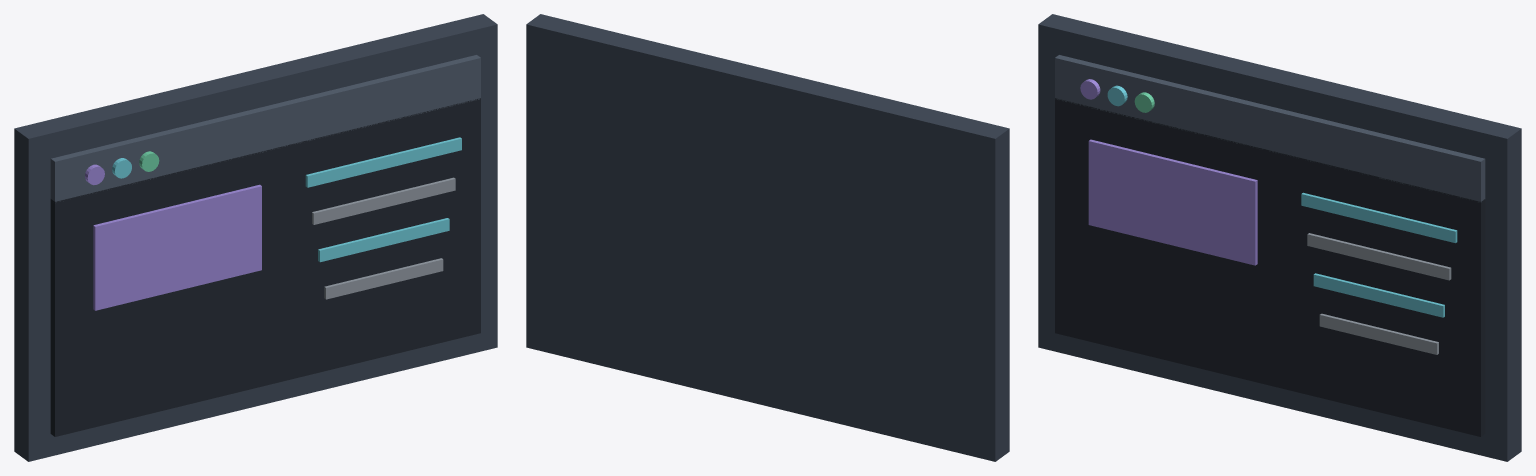
File: browser.glb
3 views of the same model, side by side, from view 1: azimuth 30°, elevation 25°; view 2: azimuth 150°, elevation 25°; view 3: azimuth 330°, elevation 25° (orthographic).
Visible parts, largest first — view 1: screen, body, top, hero, line0, line1, line2, line3; view 2: body; view 3: screen, body, top, hero, line0, line1, line2, line3.
Boxes of the visible parts, left/top/right/bottom form: screen: left=50, top=98, right=480, bottom=436; body: left=14, top=14, right=497, bottom=461; top: left=50, top=55, right=480, bottom=202; hero: left=93, top=184, right=261, bottom=310; line0: left=305, top=137, right=461, bottom=187; line1: left=312, top=177, right=455, bottom=224; line2: left=318, top=218, right=449, bottom=262; line3: left=324, top=258, right=443, bottom=299; body: left=526, top=14, right=1009, bottom=461; screen: left=1055, top=98, right=1485, bottom=436; body: left=1038, top=14, right=1521, bottom=461; top: left=1055, top=55, right=1485, bottom=202; hero: left=1088, top=139, right=1257, bottom=265; line0: left=1301, top=192, right=1457, bottom=243; line1: left=1307, top=233, right=1451, bottom=280; line2: left=1313, top=273, right=1444, bottom=317; line3: left=1319, top=313, right=1438, bottom=354.
Bounding box in the file's own units: 3.8 × 2.5 × 0.32.
